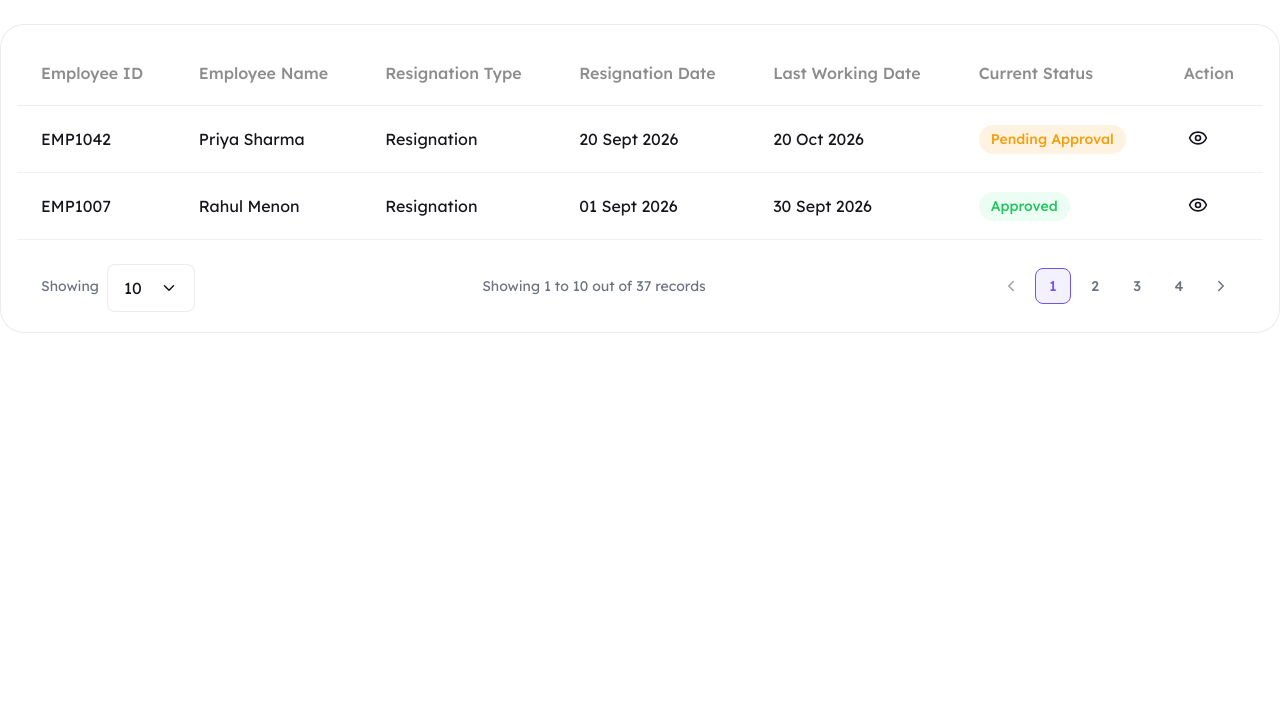
SeparationsDashboard › details drawer › opens showing what the row already carries, before the read resolves
The image size is (1280, 720).
Click the button named "View separation details" at (1198, 138), box [1184,124,1212,152]
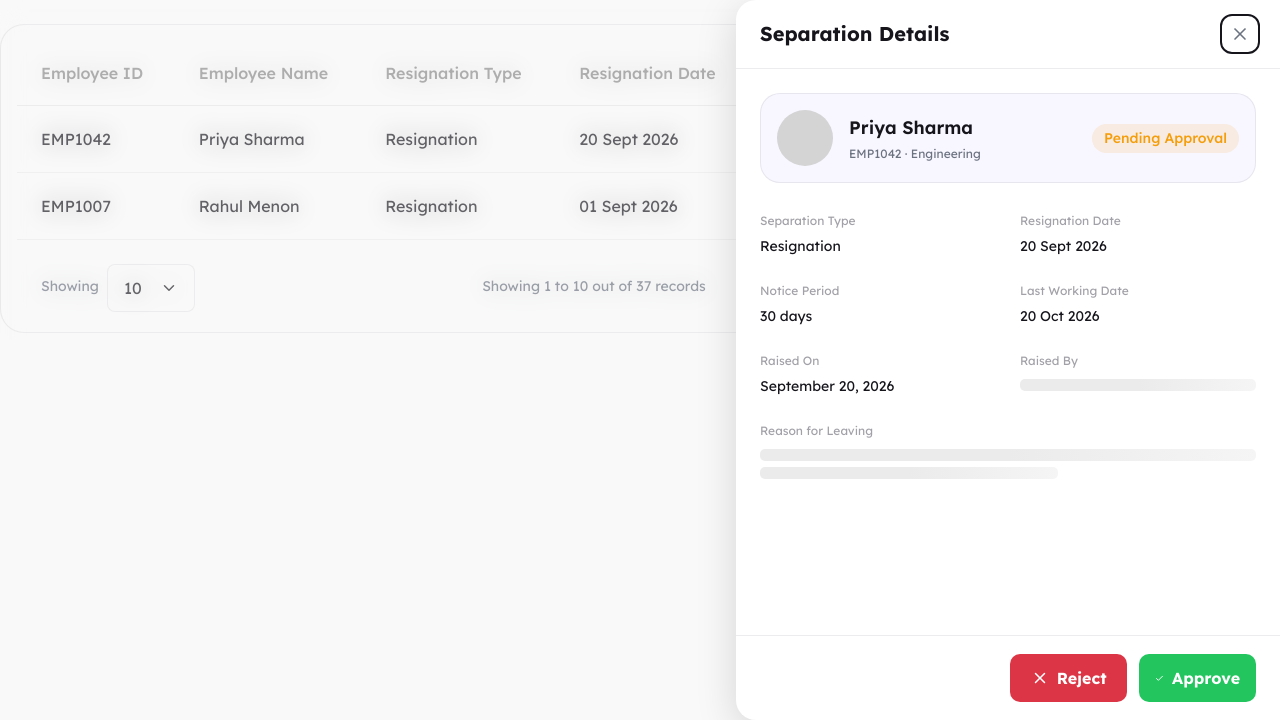
Expected: the text "Priya Sharma" is shown, [849,114,981,142]
Expected: the text "Resignation" is shown, [760,237,841,255]
Expected: the text "30 days" is shown, [760,307,812,325]
